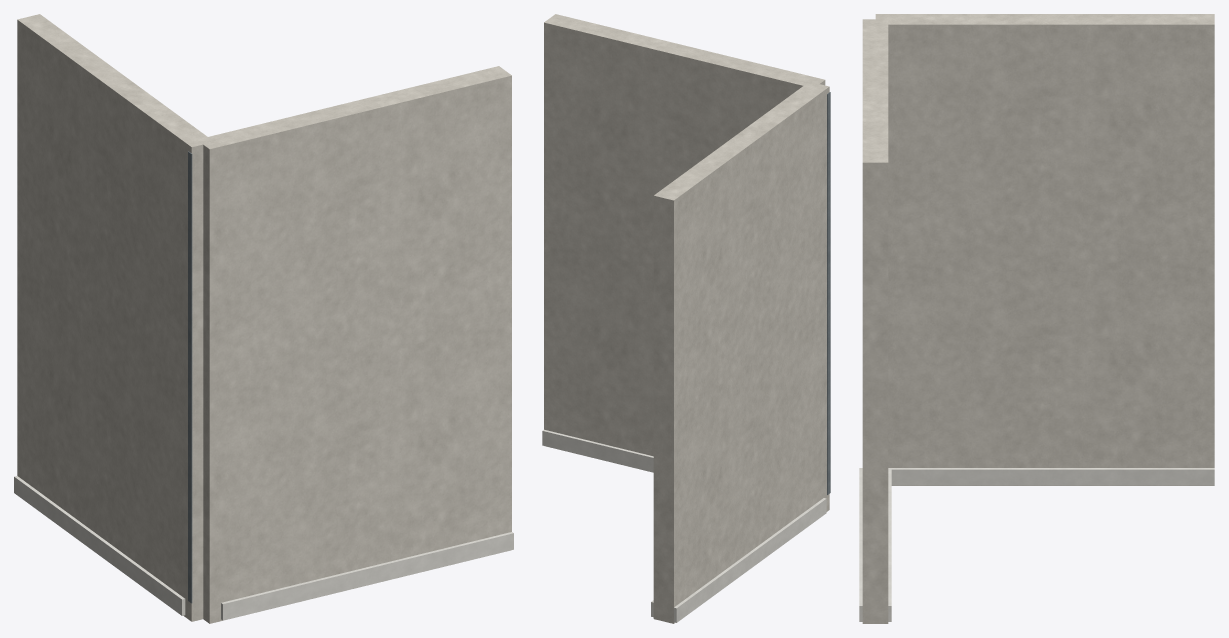
The model's file is PROJECT_Z_Interior_V04_LCorner_2x2m.glb.
The picture shows the model from 3 angles, left to right: view 1: azimuth 30°, elevation 25°; view 2: azimuth 150°, elevation 25°; view 3: azimuth 270°, elevation 25°; orthographic projection. The views are drawn at different scales.
Parts seen in each view (by area): view 1: V04_LCorner_2x2m__Render_LCorner_SingleManifold, V04_LCorner_2x2m__Render_Skirting_XArm_Outer, V04_LCorner_2x2m__Render_Skirting_YArm_Outer, V04_LCorner_2x2m__Render_Corner_Reinforcing_Bead; view 2: V04_LCorner_2x2m__Render_LCorner_SingleManifold, V04_LCorner_2x2m__Render_Skirting_YArm_Outer, V04_LCorner_2x2m__Render_Skirting_XArm_Inner, V04_LCorner_2x2m__Render_Corner_Reinforcing_Bead; view 3: V04_LCorner_2x2m__Render_LCorner_SingleManifold, V04_LCorner_2x2m__Render_Skirting_YArm_Inner, V04_LCorner_2x2m__Render_Skirting_XArm_Outer, V04_LCorner_2x2m__Render_Skirting_XArm_Inner.
Part boxes in pixels (x1,y1,x2,y2): V04_LCorner_2x2m__Render_LCorner_SingleManifold: [17, 14, 511, 623]; V04_LCorner_2x2m__Render_Skirting_XArm_Outer: [221, 532, 513, 620]; V04_LCorner_2x2m__Render_Skirting_YArm_Outer: [14, 476, 185, 615]; V04_LCorner_2x2m__Render_Corner_Reinforcing_Bead: [188, 151, 192, 603]; V04_LCorner_2x2m__Render_LCorner_SingleManifold: [544, 14, 829, 623]; V04_LCorner_2x2m__Render_Skirting_YArm_Outer: [674, 498, 826, 622]; V04_LCorner_2x2m__Render_Skirting_XArm_Inner: [542, 429, 653, 472]; V04_LCorner_2x2m__Render_Corner_Reinforcing_Bead: [827, 92, 830, 494]; V04_LCorner_2x2m__Render_LCorner_SingleManifold: [862, 14, 1214, 623]; V04_LCorner_2x2m__Render_Skirting_YArm_Inner: [891, 468, 1214, 485]; V04_LCorner_2x2m__Render_Skirting_XArm_Outer: [859, 468, 862, 621]; V04_LCorner_2x2m__Render_Skirting_XArm_Inner: [888, 468, 891, 621].
Bounding box in the file's own units: 2.1 × 3 × 2.1.
Materials: 3 (3 with a texture image).
